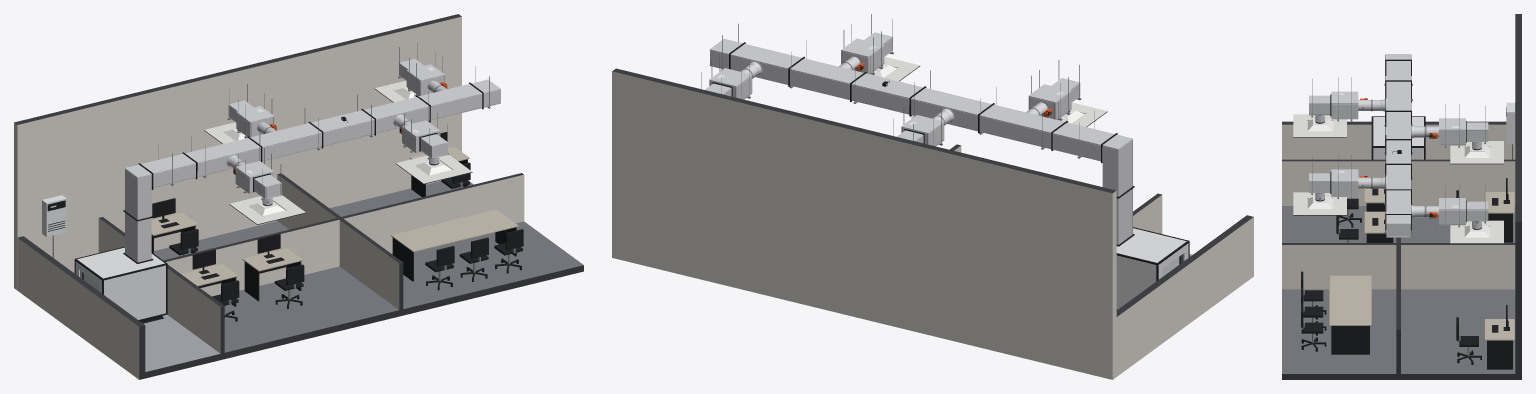
3 views of the same model, side by side, from view 1: azimuth 30°, elevation 25°; view 2: azimuth 150°, elevation 25°; view 3: azimuth 270°, elevation 25° (orthographic). The views are drawn at different scales.
Visible parts, largest first — view 1: wall_back, partitions, zone1_floor, wall_left, zone3_floor, supply_main, supply_main_front, conference_table, floor_slab, mech_floor, ahu_front, riser (+26 smaller); view 2: wall_back, supply_main, wall_left, riser, ahu_back, ahu_roof, partitions, vav4_casing, vav2_casing, vav3_casing, vav1_casing; view 3: partitions, zone4_floor, zone3_floor, supply_main, wall_left, conference_table, wall_back, zone1_floor, floor_slab, desk_04, zone2_floor, desk_03 (+33 smaller).
Boxes of the visible parts, left/top/right/bottom form: wall_back: left=14, top=14, right=461, bottom=290; partitions: left=98, top=173, right=524, bottom=353; zone1_floor: left=223, top=266, right=400, bottom=353; wall_left: left=17, top=236, right=145, bottom=379; zone3_floor: left=391, top=221, right=583, bottom=309; supply_main: left=138, top=79, right=500, bottom=189; supply_main_front: left=151, top=90, right=500, bottom=187; conference_table: left=391, top=209, right=518, bottom=281; floor_slab: left=145, top=265, right=583, bottom=378; mech_floor: left=72, top=270, right=222, bottom=372; ahu_front: left=104, top=265, right=165, bottom=319; riser: left=123, top=164, right=153, bottom=263; wall_back: left=612, top=68, right=1116, bottom=379; supply_main: left=709, top=39, right=1117, bottom=163; wall_left: left=1116, top=215, right=1253, bottom=376; riser: left=1102, top=134, right=1134, bottom=246; ahu_back: left=1116, top=255, right=1156, bottom=309; ahu_roof: left=1116, top=228, right=1186, bottom=262; partitions: left=949, top=144, right=1162, bottom=233; vav4_casing: left=709, top=68, right=752, bottom=99; vav2_casing: left=901, top=115, right=944, bottom=146; vav3_casing: left=841, top=38, right=884, bottom=74; vav1_casing: left=1028, top=84, right=1071, bottom=119; partitions: left=1282, top=159, right=1515, bottom=373; zone4_floor: left=1399, top=289, right=1515, bottom=374; zone3_floor: left=1282, top=289, right=1398, bottom=374; supply_main: left=1385, top=59, right=1411, bottom=237; wall_left: left=1282, top=121, right=1515, bottom=159; conference_table: left=1329, top=275, right=1371, bottom=354; wall_back: left=1515, top=14, right=1521, bottom=379; zone1_floor: left=1282, top=206, right=1396, bottom=242; floor_slab: left=1282, top=374, right=1515, bottom=379; desk_04: left=1484, top=319, right=1514, bottom=369; zone2_floor: left=1401, top=206, right=1515, bottom=242; desk_03: left=1484, top=192, right=1514, bottom=242.
Size of the model in its own units: 10.95 by 3.9 by 5.35.
